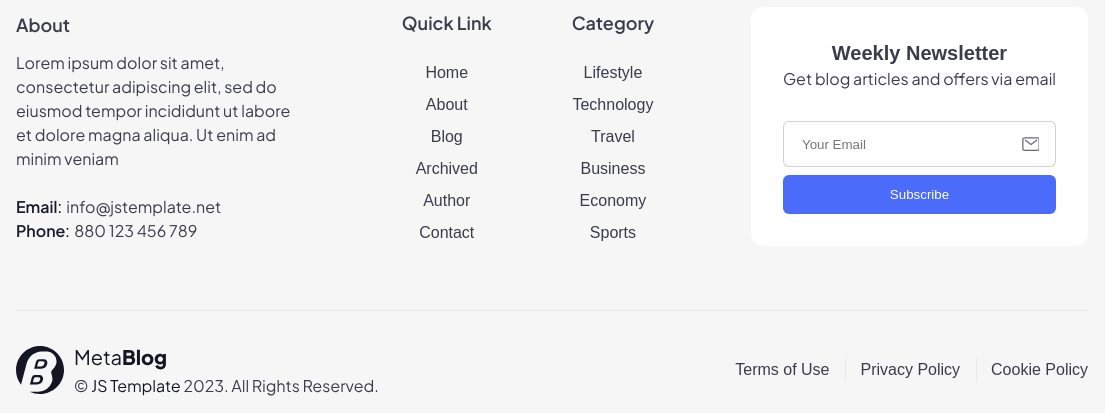
Test case: Footer component › should display an error message for an invalid email
The image size is (1105, 413).
In the field with placeholder "Your Email": (905, 144) top-left (800, 136), bottom-right (1011, 152), type "invalidemail"
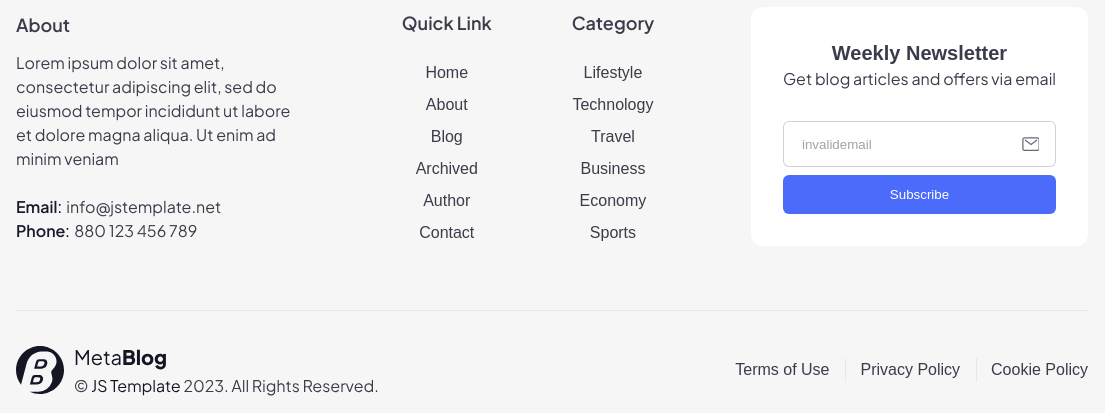
Click the button "Subscribe": (920, 194) top-left (783, 175), bottom-right (1056, 214)
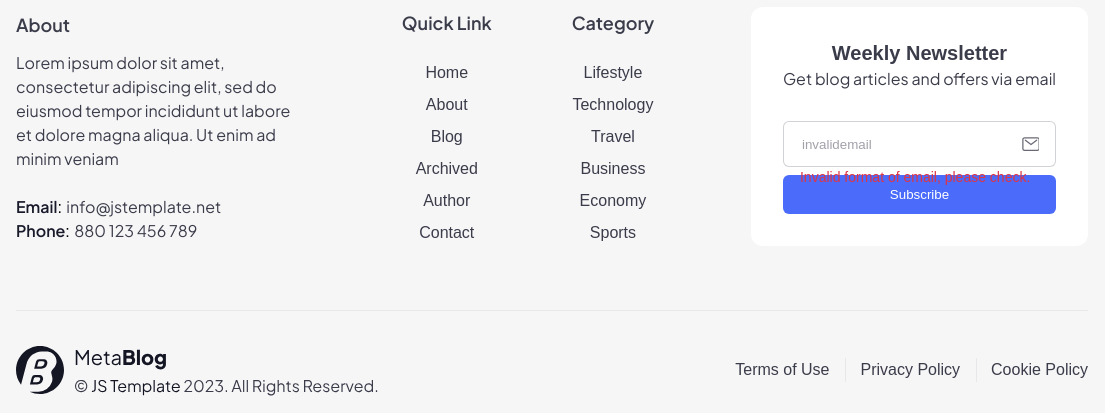
Result: the text "Invalid format of email, please check." is shown at top-left (800, 170), bottom-right (1030, 184)
